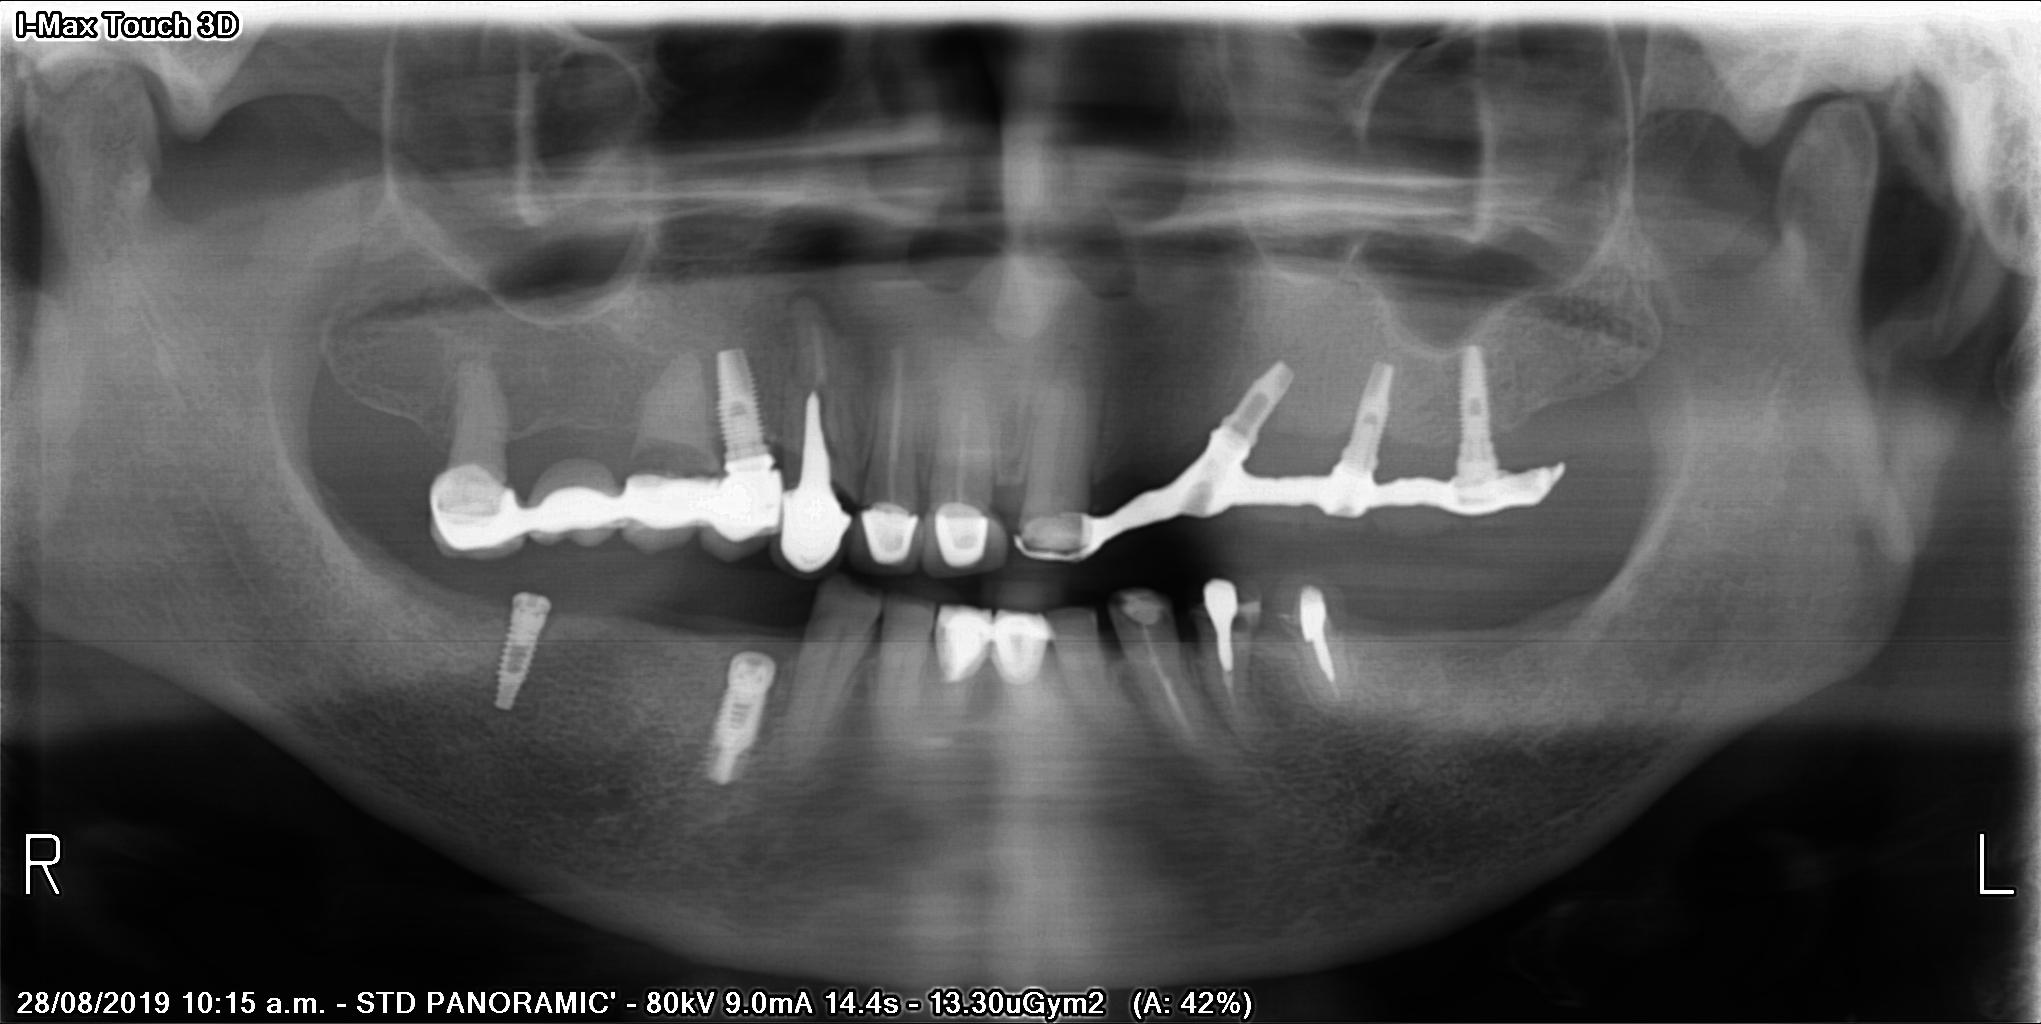Çürük: (420, 474, 521, 562), (781, 485, 842, 569), (710, 469, 780, 539), (935, 603, 992, 679), (996, 606, 1043, 686), (863, 499, 918, 567), (936, 492, 987, 564), (1203, 581, 1238, 670)
Çürük Bölgesi: (1231, 610, 1255, 633), (1109, 593, 1127, 616)
